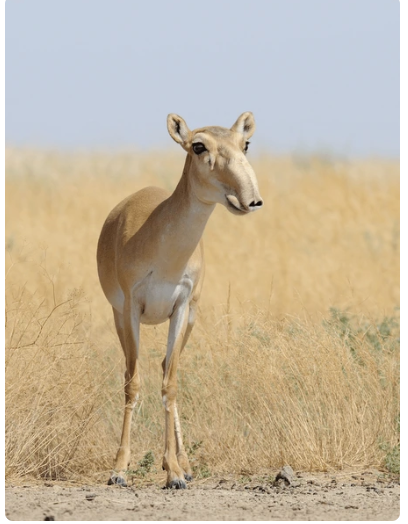saiga: (95, 106, 267, 475)
